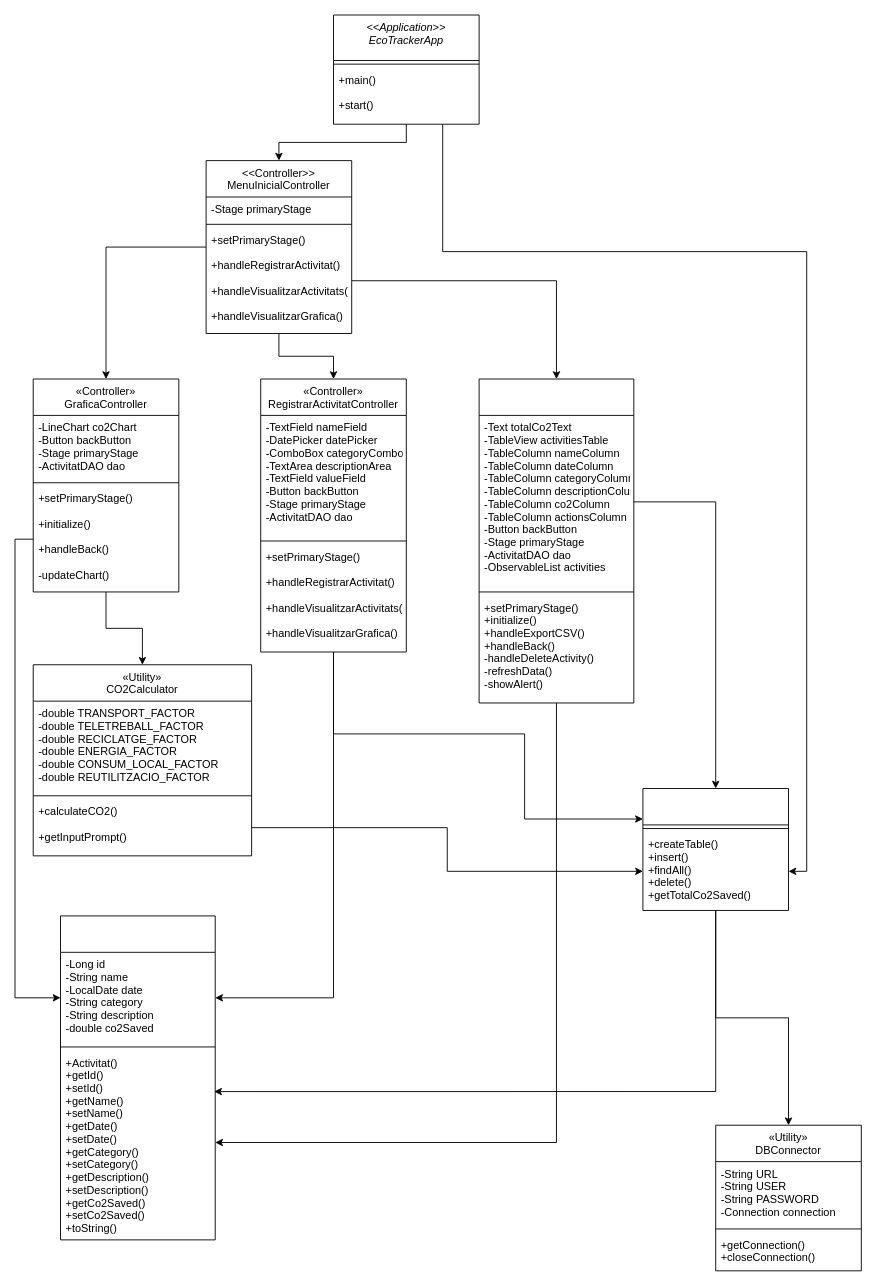
The diagram is 876 pixels wide and 1286 high, and some of its shapes have lost their labels. Each missing label, with the box of its shape:
«Controller» VisualitzarActivitatsController: (478, 378, 634, 703)
«DAO» ActivitatDAO: (642, 788, 789, 910)
«Entity» Activitat: (60, 915, 215, 1240)
